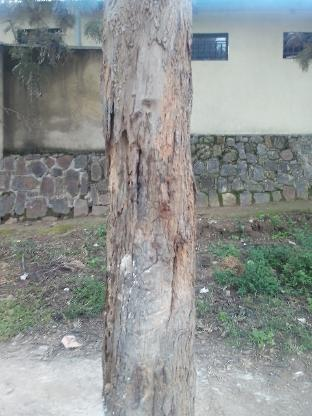tree: (92, 0, 209, 416)
